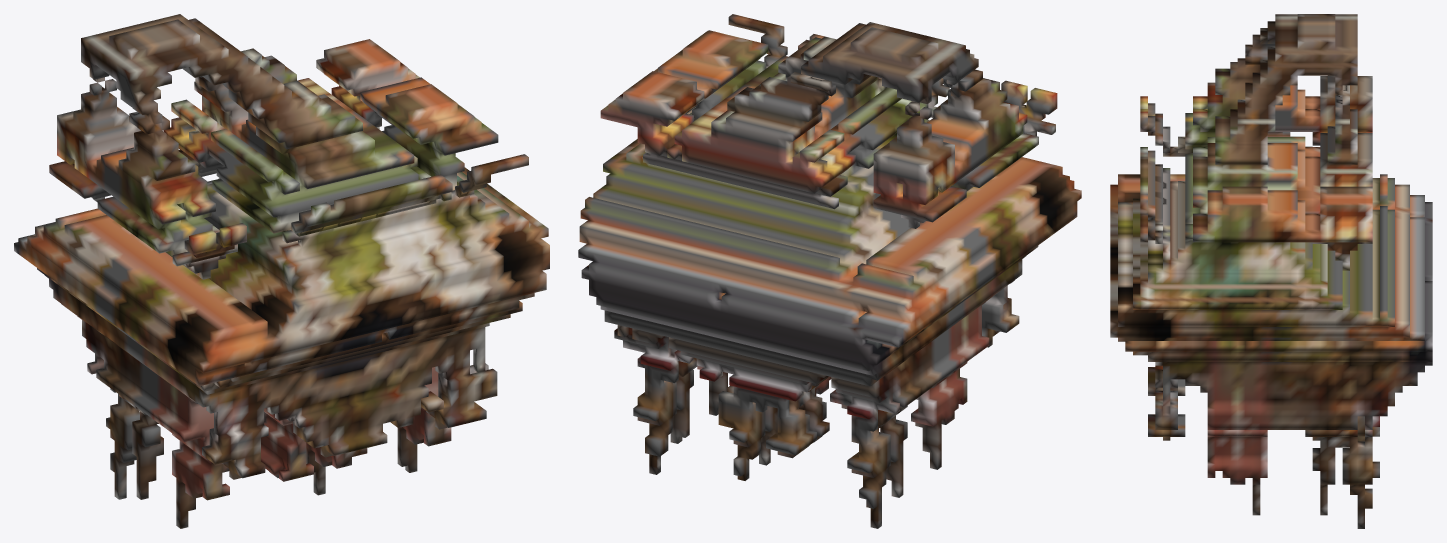
The model's file is sheet4_L2.glb.
3 views of the same model, side by side, from view 1: azimuth 30°, elevation 25°; view 2: azimuth 150°, elevation 25°; view 3: azimuth 270°, elevation 25° (orthographic). The views are drawn at different scales.
Visible parts, largest first — view 1: BPT_sheet4_L2; view 2: BPT_sheet4_L2; view 3: BPT_sheet4_L2.
Boxes of the visible parts, x1,y1,x2,y2 form: BPT_sheet4_L2: (14,14,549,528); BPT_sheet4_L2: (578,14,1081,528); BPT_sheet4_L2: (1110,14,1432,528).
Size of the model in its own units: 1.57 by 2 by 1.43.
